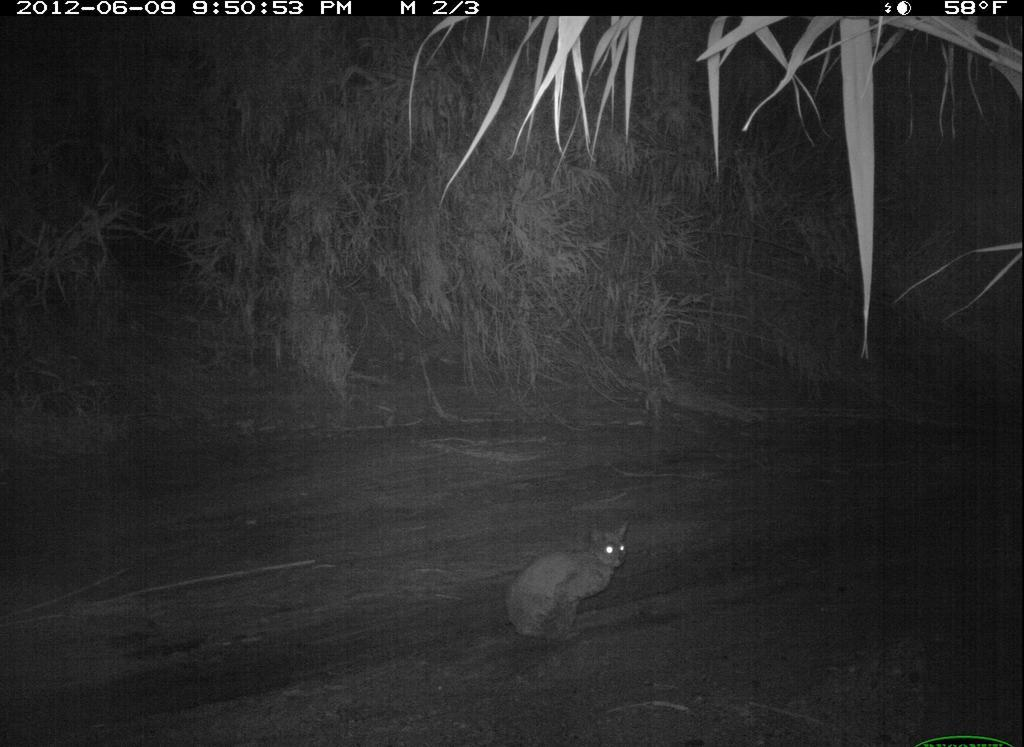bobcat: (497, 515, 641, 653)
